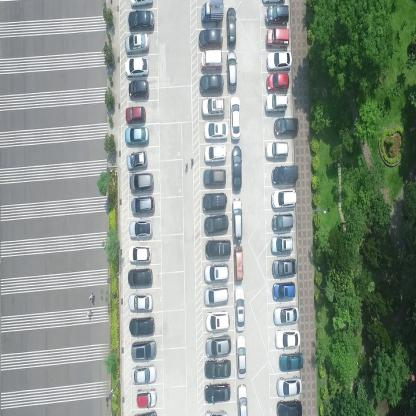car: (204, 335, 233, 358), (204, 358, 233, 380), (204, 382, 232, 404), (200, 0, 224, 25), (273, 304, 299, 327), (274, 328, 301, 350), (275, 375, 302, 397), (203, 214, 230, 236), (203, 286, 230, 308), (271, 165, 299, 186), (127, 11, 155, 32), (229, 96, 242, 141), (231, 195, 243, 243), (132, 363, 157, 386), (204, 312, 230, 334), (124, 32, 150, 54), (130, 339, 157, 360), (128, 317, 156, 337), (234, 288, 246, 334), (201, 96, 224, 120), (129, 172, 154, 194), (198, 28, 224, 49), (202, 191, 228, 212), (265, 51, 292, 71), (204, 238, 231, 258), (127, 293, 154, 313), (265, 92, 288, 115), (265, 4, 289, 26), (231, 144, 242, 192), (199, 50, 223, 72), (204, 120, 228, 142), (129, 218, 153, 240), (198, 74, 223, 95), (274, 116, 300, 136), (271, 190, 297, 210), (203, 264, 229, 284), (272, 280, 296, 301), (125, 57, 149, 78), (128, 245, 152, 266), (125, 126, 150, 146), (236, 335, 247, 380), (272, 258, 298, 277), (226, 49, 237, 93), (126, 150, 148, 172), (136, 387, 158, 409), (266, 27, 289, 48), (266, 72, 289, 93), (128, 268, 152, 288), (279, 352, 304, 371), (131, 197, 156, 216), (226, 5, 237, 48), (276, 397, 302, 415), (128, 79, 150, 100), (271, 234, 294, 254), (202, 168, 226, 187), (204, 144, 226, 164), (266, 140, 288, 159), (233, 245, 244, 282), (125, 105, 146, 124), (272, 213, 294, 231), (237, 383, 249, 415), (128, 0, 154, 10), (204, 408, 229, 415)
